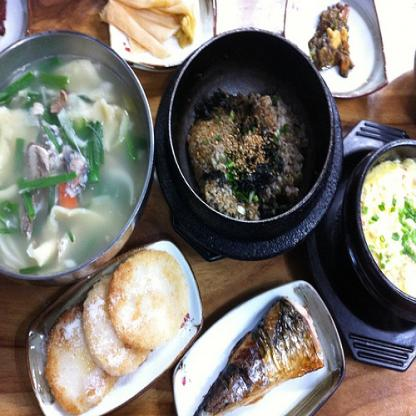Peixe: (201, 295, 321, 416)
